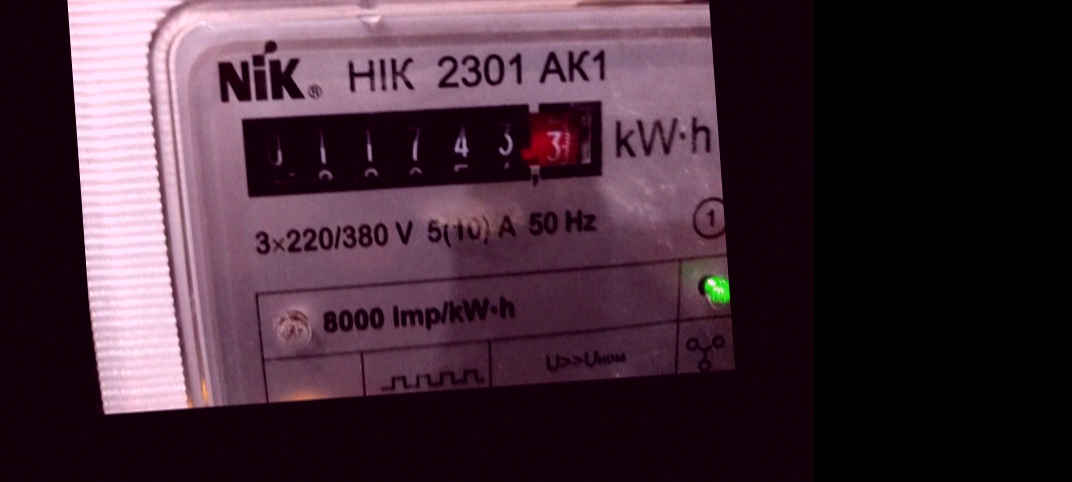0: (260, 129, 284, 170), (310, 125, 330, 167)
1: (357, 123, 375, 165)
3: (491, 116, 514, 160), (540, 125, 563, 165)
4: (446, 119, 469, 160)
7: (399, 119, 425, 165)
screen: (219, 79, 614, 213)
